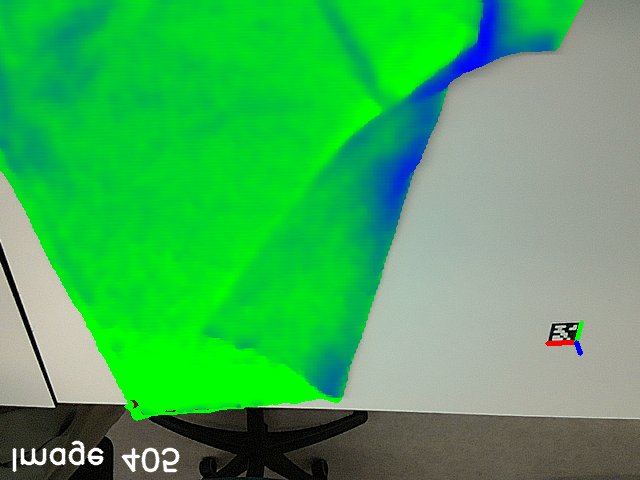V: (182, 299, 236, 348)
